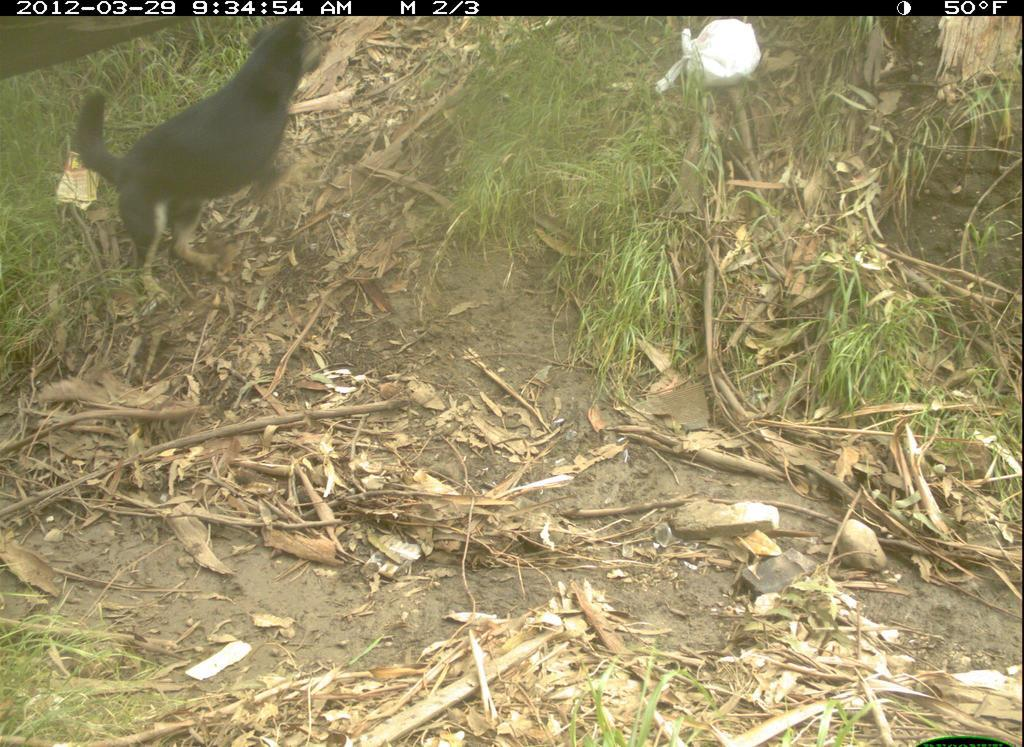dog: (70, 11, 347, 308)
